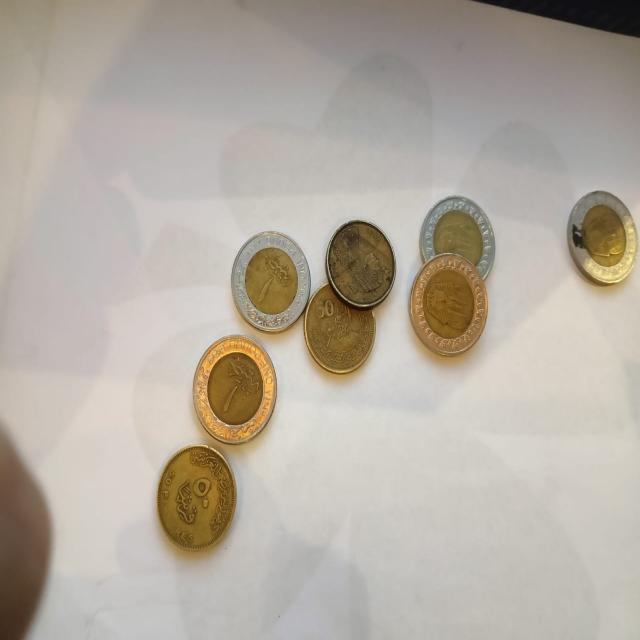Half Pound: (152, 444, 240, 562), (302, 288, 382, 376), (326, 218, 399, 313)
One Pound: (188, 331, 282, 446), (229, 224, 314, 342), (408, 248, 492, 364), (562, 180, 640, 295), (410, 185, 497, 279)
